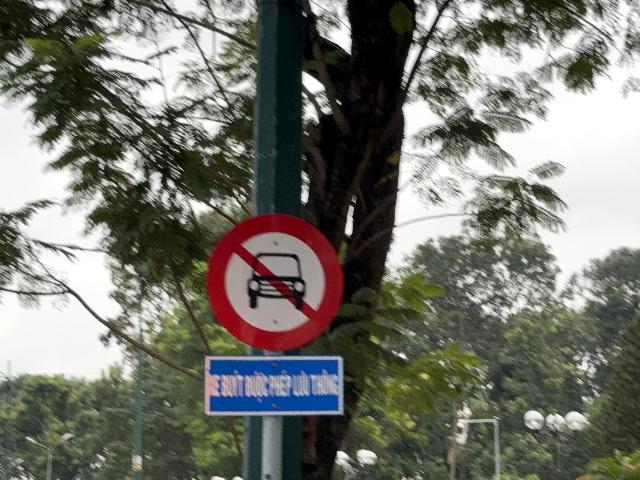cam-o-to: (207, 214, 344, 352)
